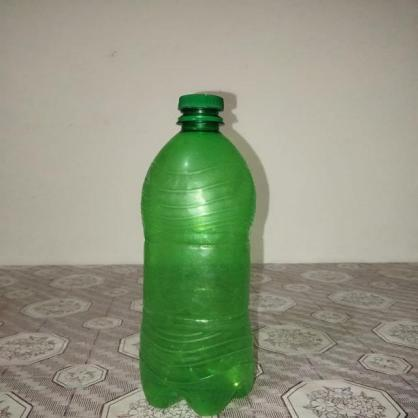bottle: (122, 83, 271, 416)
cap: (177, 94, 225, 122)
